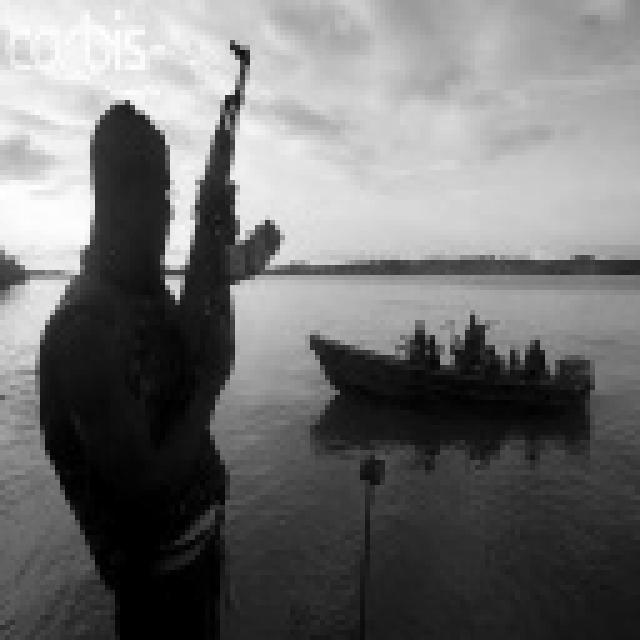Rifle: (111, 1, 325, 434)
